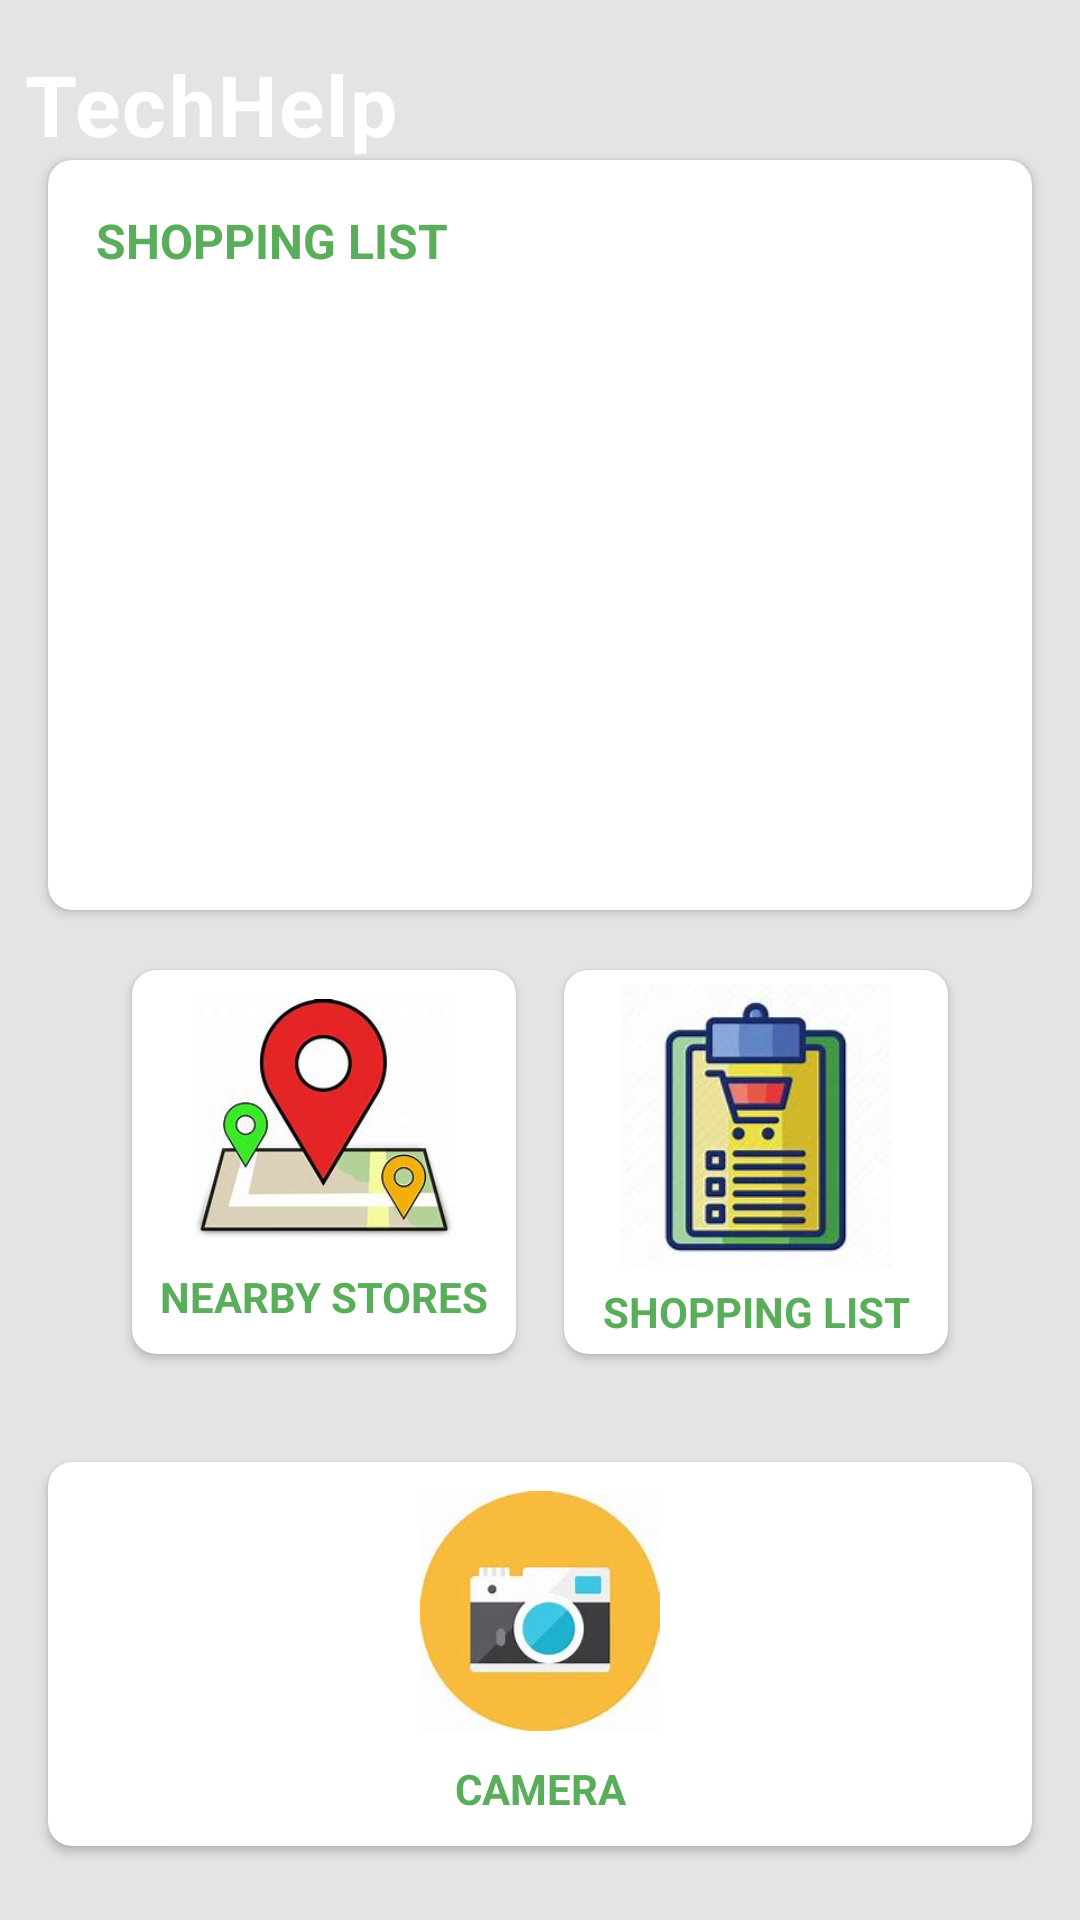

Icon click points for this 1080 x 1920 phone screenshot, format [x,y]:
listicon: [755,1127]
mapicon: [324,1117]
